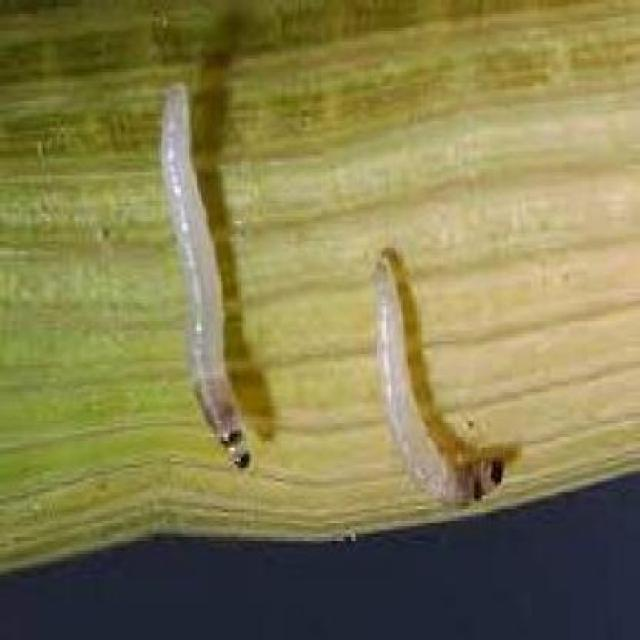whorl-maggot: (146, 73, 272, 487), (366, 241, 509, 510)
